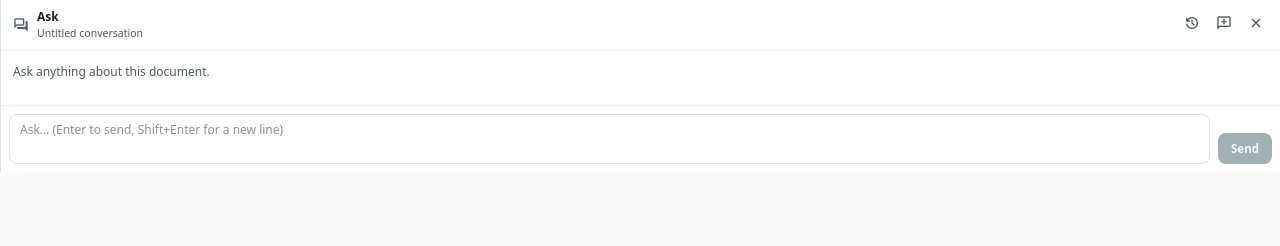
Test: a failed stream shows an error and keeps the question
In the text box named "Message": {"x": 610, "y": 139} [9,114,1210,164], type "Hello"
Then press Enter
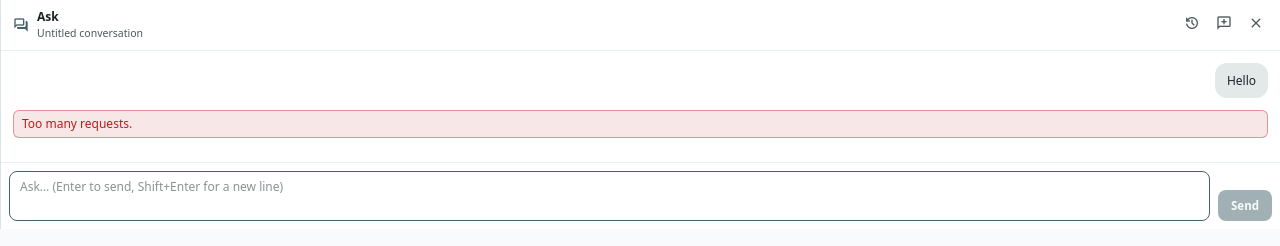
Now the message reads "Too many requests.", box [22,115,132,132]
Now the text "Hello" is shown, box [1215,63,1268,98]
